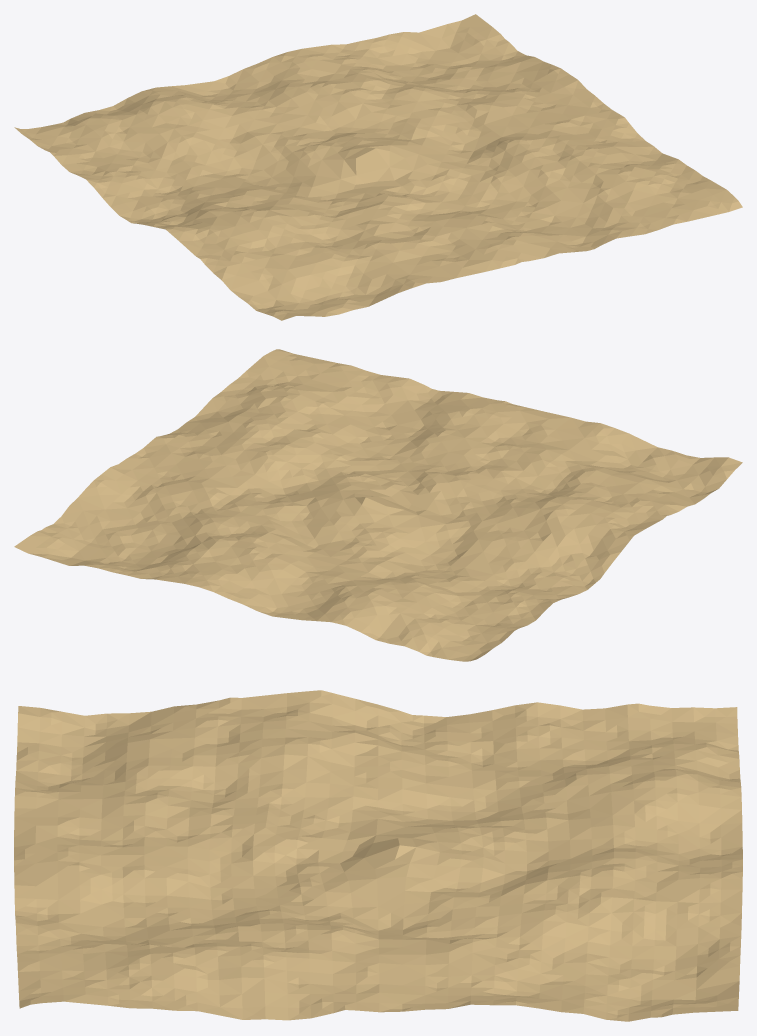
The model's file is terrain.dae.
3 views of the same model, one above another, from view 1: azimuth 30°, elevation 25°; view 2: azimuth 150°, elevation 25°; view 3: azimuth 270°, elevation 25° (orthographic). The views are drawn at different scales.
Visible parts, largest first — view 1: Terrain; view 2: Terrain; view 3: Terrain.
Boxes of the visible parts, x1,y1,x2,y2 form: Terrain: (14, 14, 742, 320); Terrain: (14, 349, 742, 661); Terrain: (14, 690, 742, 1021).
Size of the model in its own units: 26.85 by 26.85 by 1.39.
